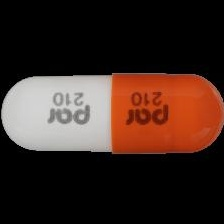49884-210: (0, 0, 224, 224)
